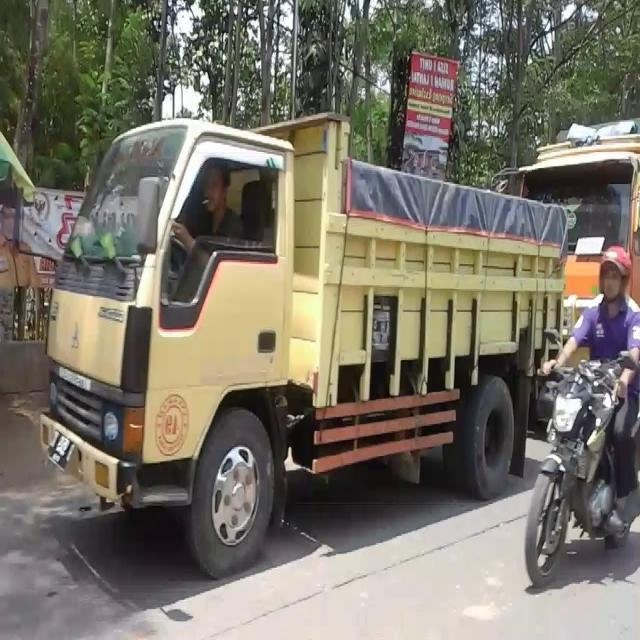Truck: (42, 111, 578, 580)
